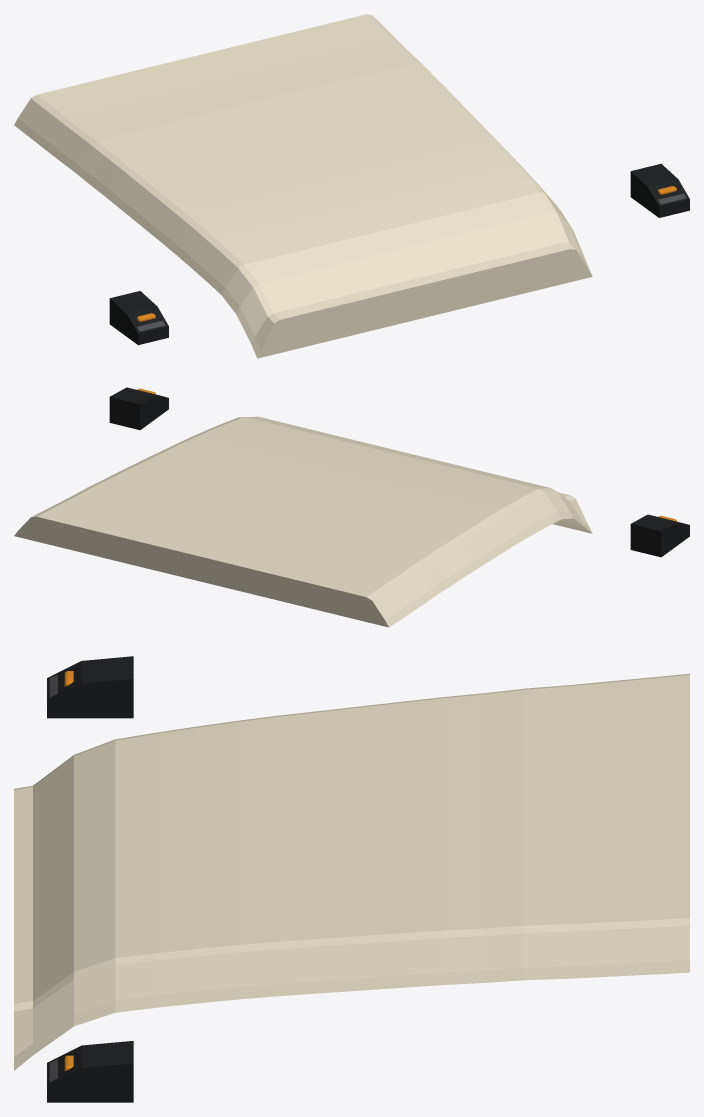
File: hood_damd_little_g.glb
3 renders of one model, top to bottom at view 1: azimuth 30°, elevation 25°; view 2: azimuth 150°, elevation 25°; view 3: azimuth 270°, elevation 25°, orthographic. The views are drawn at different scales.
Visible parts, largest first — view 1: dome.002, winkerBase-1, winkerBase1; view 2: dome.002, winkerBase1, winkerBase-1; view 3: dome.002, winkerBase-1, winkerBase1.
Part boxes in pixels (bbox=[...]): dome.002: bbox=[14, 14, 592, 358]; winkerBase-1: bbox=[109, 291, 168, 345]; winkerBase1: bbox=[630, 163, 689, 217]; dome.002: bbox=[14, 416, 592, 627]; winkerBase1: bbox=[109, 387, 168, 430]; winkerBase-1: bbox=[630, 514, 689, 557]; dome.002: bbox=[14, 673, 689, 1070]; winkerBase-1: bbox=[47, 656, 133, 718]; winkerBase1: bbox=[47, 1041, 133, 1102].
Bounding box in the file's own units: 1.11 × 0.1919 × 0.78.
